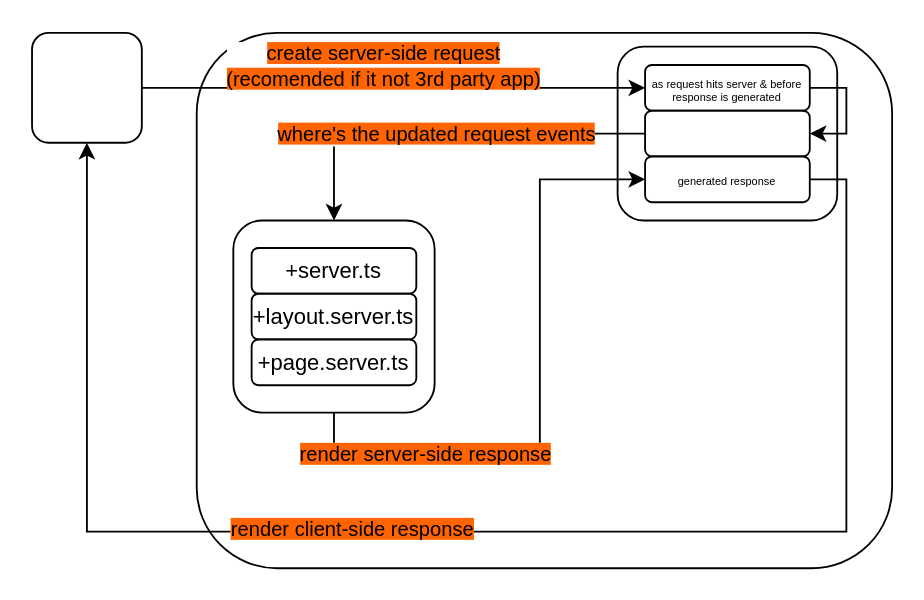
This 924x600 diagram has some shape labels left out. The shapes that lost their labels are listed below. From the top down, each one's centre as x and y in pixels, then its label:
At point (86, 87): "client".
At point (726, 132): "render route & generate response await resolve(event)".
